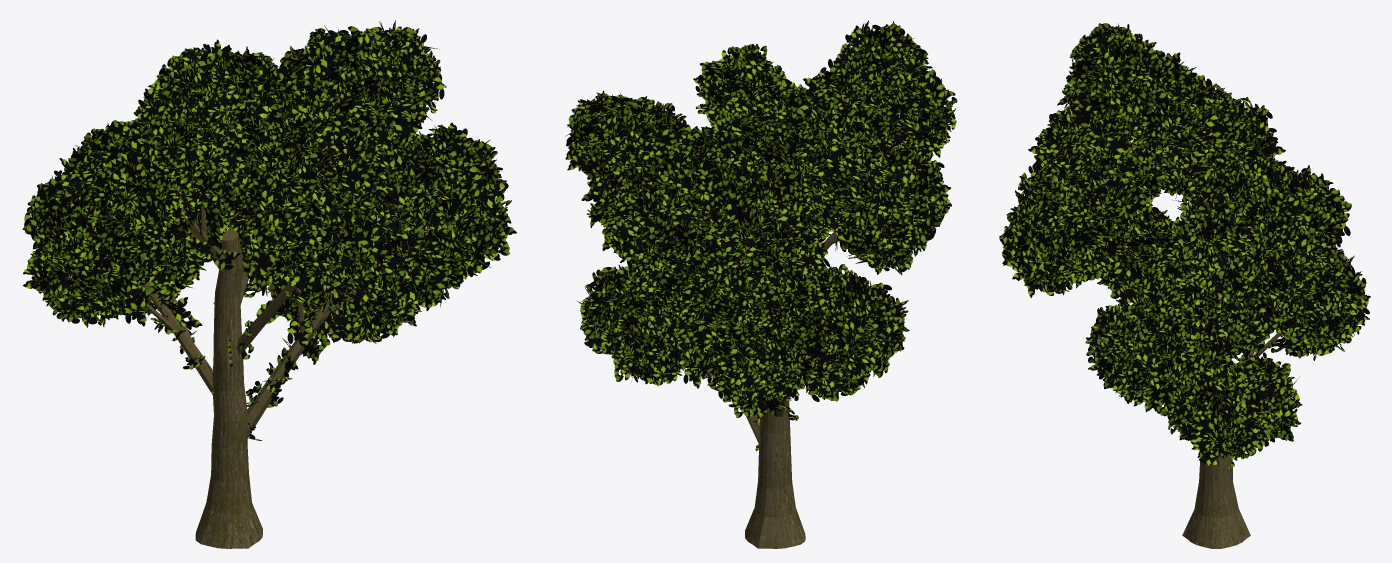
The model's file is oak_broadleaf_v02.fbx.
3 renders of one model, left to right at view 1: azimuth 30°, elevation 25°; view 2: azimuth 150°, elevation 25°; view 3: azimuth 270°, elevation 25°, orthographic. The views are drawn at different scales.
Visible parts, largest first — view 1: oak_broadleaf_v02; view 2: oak_broadleaf_v02; view 3: oak_broadleaf_v02.
Boxes of the visible parts, x1,y1,x2,y2 form: oak_broadleaf_v02: [22, 20, 516, 548]; oak_broadleaf_v02: [565, 20, 957, 548]; oak_broadleaf_v02: [999, 23, 1370, 548].
Size of the model in its own units: 1855 by 1626 by 2288.
2 materials, 2 textured.
